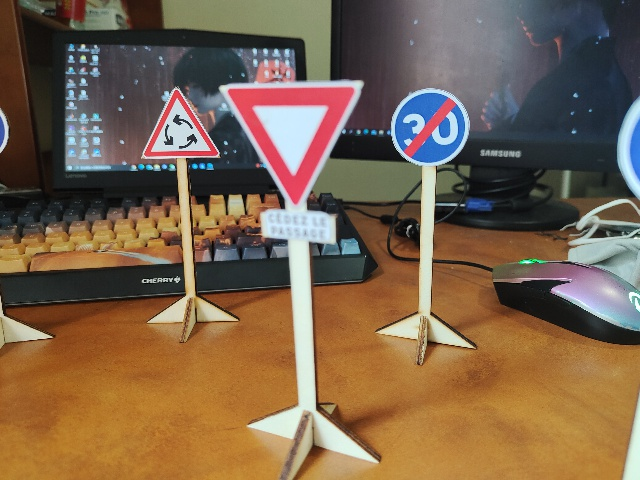ban: (388, 87, 470, 167)
cycle: (140, 88, 217, 157)
second: (220, 82, 367, 246)
